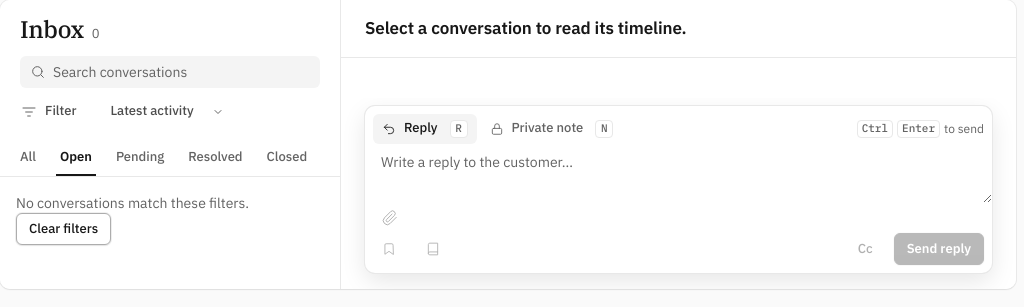
an empty filtered list offers a way out that clears every filter back to the Open view
The image size is (1024, 307).
In the search field labelled "Search conversations": (170, 72) [20,56,320,88], type "refund"
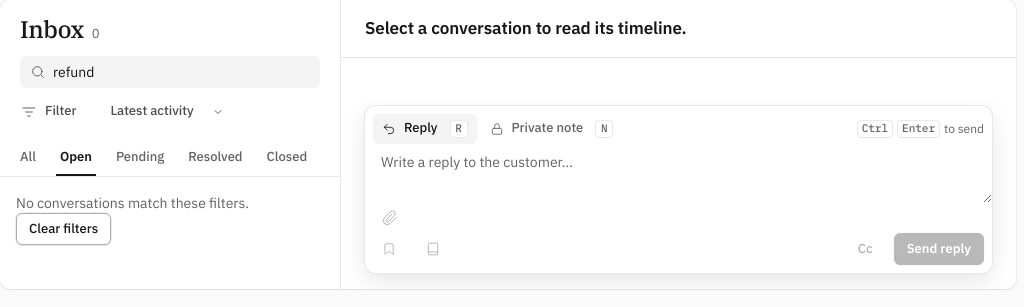
Click the radio button labelled "Pending": (140, 157) [116,148,164,165]
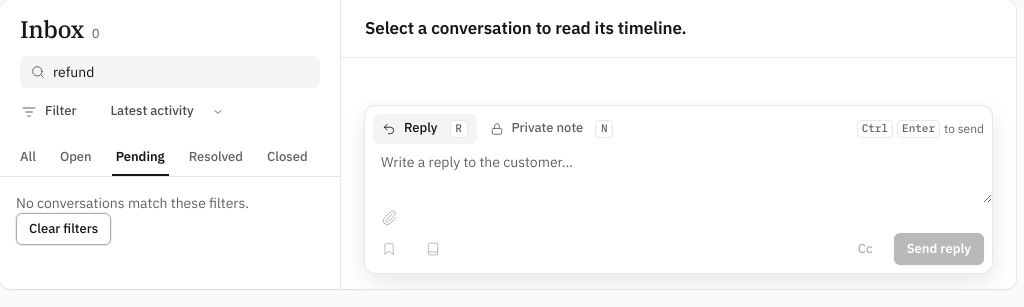
Click the button "Clear filters": (64, 229) [16,213,111,245]
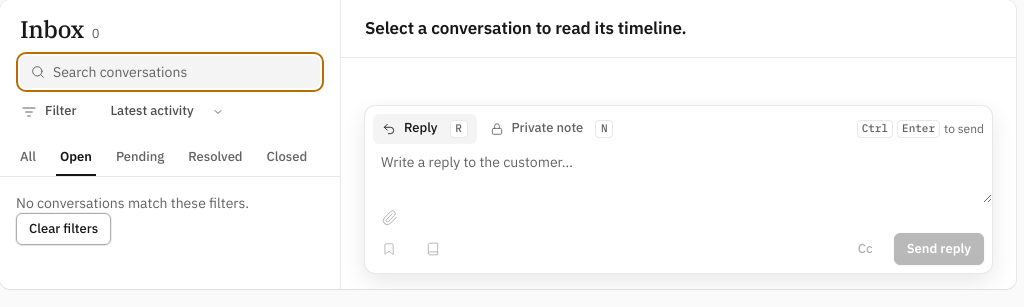
Now the search field labelled "Search conversations" is empty, box [20,56,320,88]
Now the radio button labelled "Open" is checked, box [56,140,96,176]
